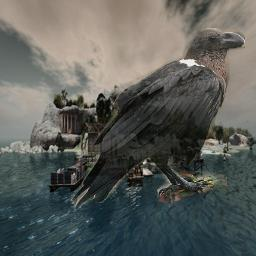Crow: (69, 28, 245, 208)
